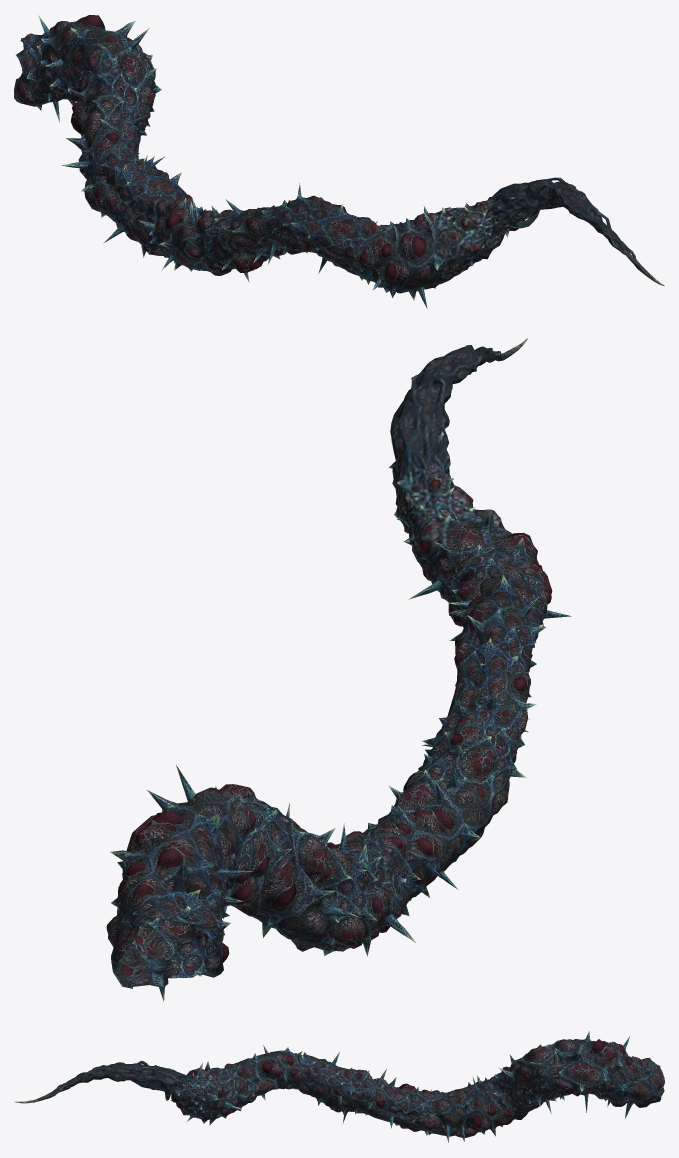
Rendered from backup.fbx.
3 renders of one model, top to bottom at view 1: azimuth 30°, elevation 25°; view 2: azimuth 150°, elevation 25°; view 3: azimuth 270°, elevation 25°, orthographic. The views are drawn at different scales.
Parts seen in each view (by area): view 1: LODGroup_1_MainMesh_1_SubMesh_1, LODGroup_1_MainMesh_1_SubMesh_2, LODGroup_1_MainMesh_1_SubMesh_3; view 2: LODGroup_1_MainMesh_1_SubMesh_1, LODGroup_1_MainMesh_1_SubMesh_2, LODGroup_1_MainMesh_1_SubMesh_3; view 3: LODGroup_1_MainMesh_1_SubMesh_1, LODGroup_1_MainMesh_1_SubMesh_2, LODGroup_1_MainMesh_1_SubMesh_3.
Part boxes in pixels (box(x1,y1,x2,y2)): LODGroup_1_MainMesh_1_SubMesh_1: box(20, 15, 439, 308); LODGroup_1_MainMesh_1_SubMesh_2: box(14, 23, 448, 300); LODGroup_1_MainMesh_1_SubMesh_3: box(434, 177, 664, 286); LODGroup_1_MainMesh_1_SubMesh_1: box(106, 510, 571, 1001); LODGroup_1_MainMesh_1_SubMesh_2: box(150, 557, 545, 988); LODGroup_1_MainMesh_1_SubMesh_3: box(389, 338, 527, 563); LODGroup_1_MainMesh_1_SubMesh_1: box(187, 1035, 664, 1142); LODGroup_1_MainMesh_1_SubMesh_2: box(191, 1031, 629, 1136); LODGroup_1_MainMesh_1_SubMesh_3: box(15, 1060, 224, 1117).
Bounding box in the file's own units: 1003 × 788 × 3276.
